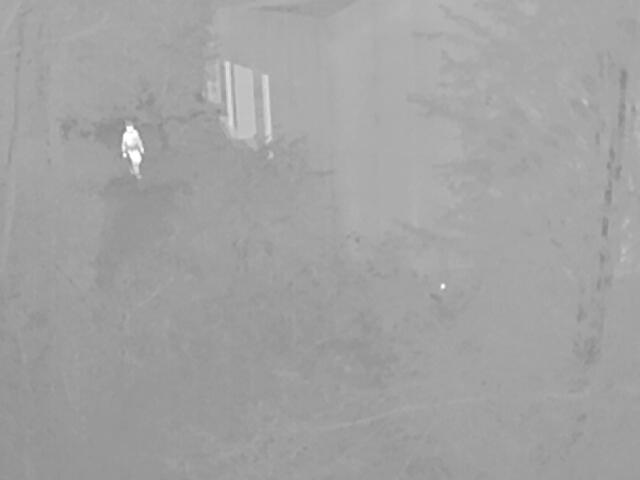person: (119, 118, 144, 177)
